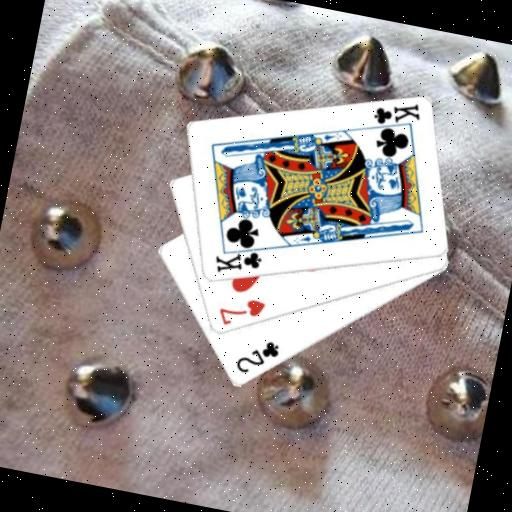2C: (231, 333, 283, 382)
7H: (213, 290, 268, 335)
KC: (365, 93, 424, 141), (210, 235, 267, 282)
